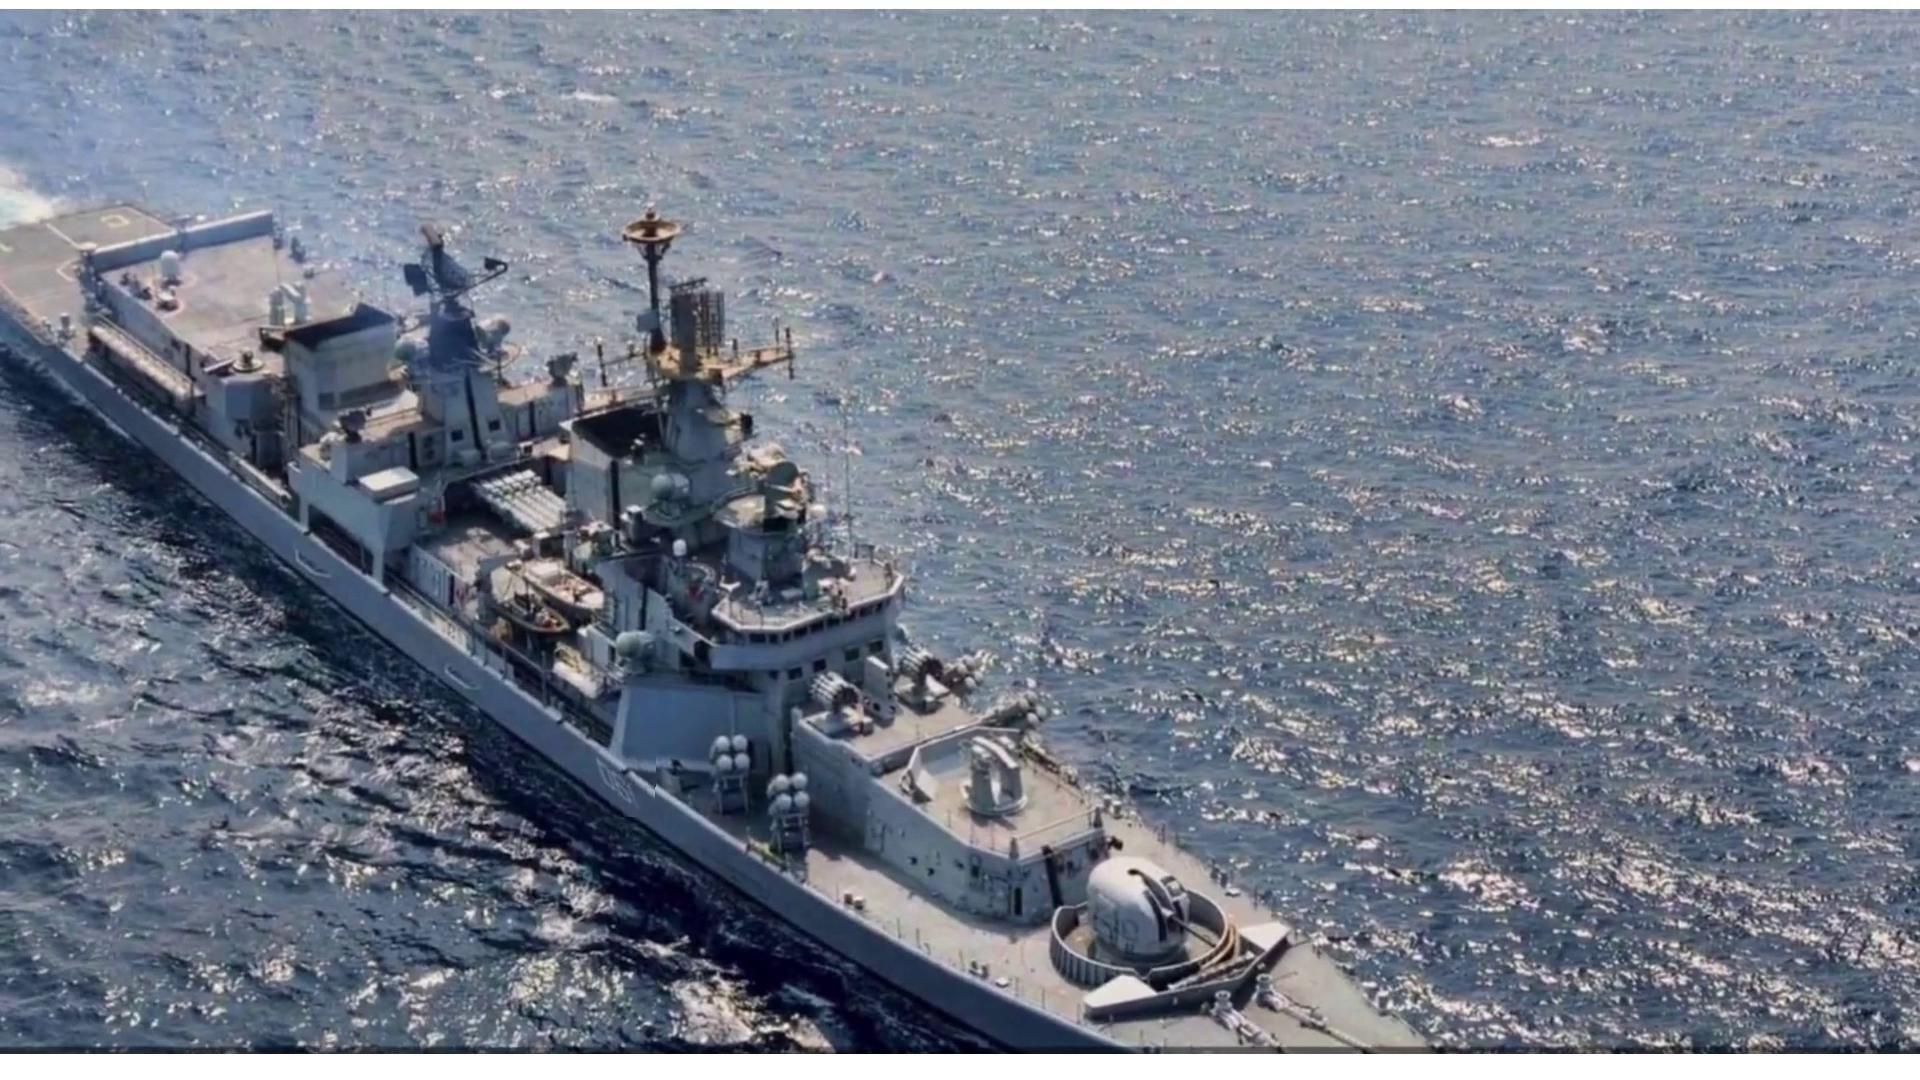OCR: (580, 748, 656, 818)
